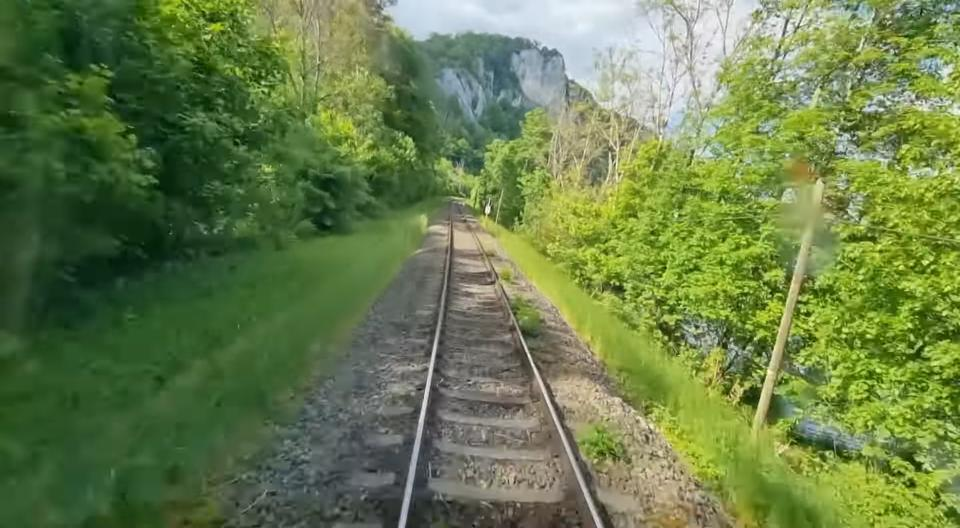Plant: (578, 424, 626, 463), (511, 297, 544, 337), (645, 514, 688, 528), (500, 266, 512, 282)
